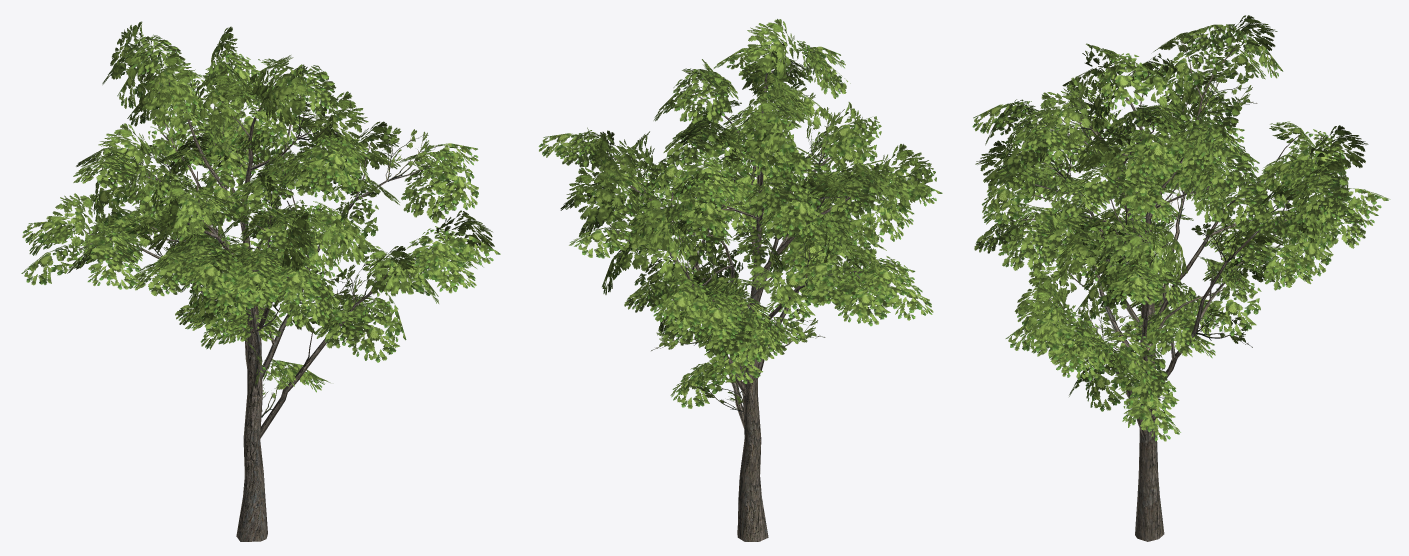
The model's file is tree2a_lod0.obj.
3 renders of one model, left to right at view 1: azimuth 30°, elevation 25°; view 2: azimuth 150°, elevation 25°; view 3: azimuth 270°, elevation 25°, orthographic.
Parts seen in each view (by area): view 1: polySurface1624, polySurface1399; view 2: polySurface1624, polySurface1399; view 3: polySurface1624, polySurface1399.
Part boxes in pixels (bbox=[...]): polySurface1624: bbox=[21, 21, 500, 417]; polySurface1399: bbox=[78, 61, 429, 541]; polySurface1624: bbox=[538, 19, 942, 411]; polySurface1399: bbox=[609, 51, 917, 541]; polySurface1624: bbox=[972, 15, 1390, 441]; polySurface1399: bbox=[1018, 41, 1321, 541].
Bounding box in the file's own units: 16.53 × 18.67 × 14.46.
